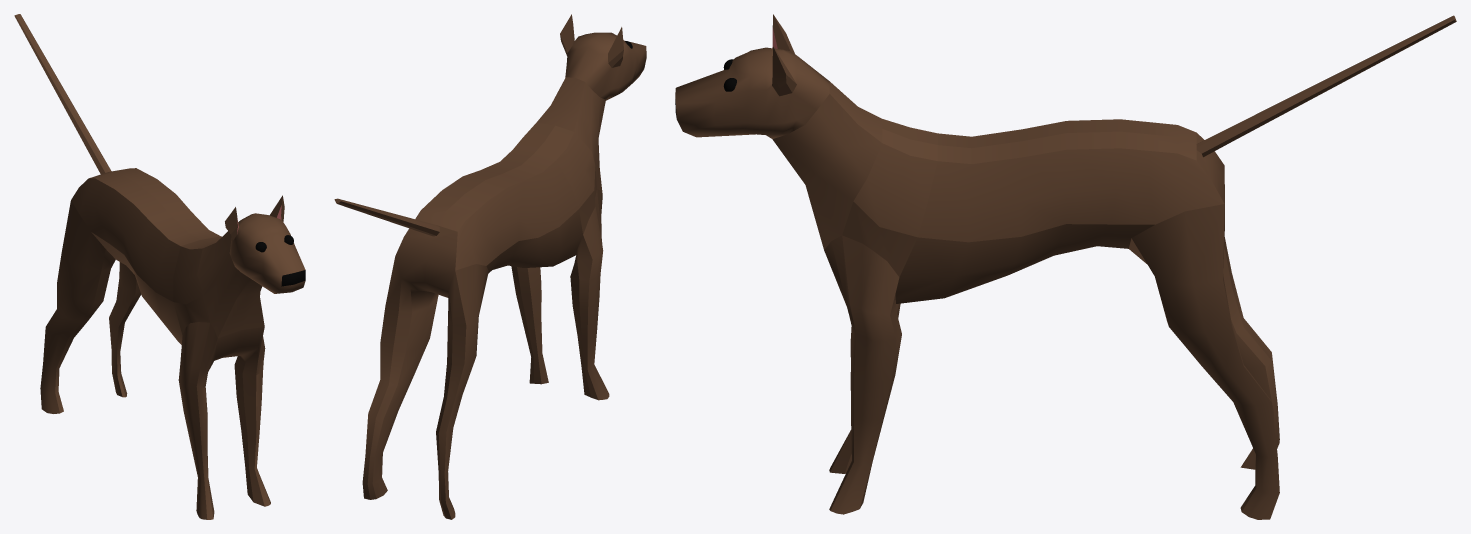
Rendered from Dog1ModelSmall.fbx.
3 renders of one model, left to right at view 1: azimuth 30°, elevation 25°; view 2: azimuth 150°, elevation 25°; view 3: azimuth 270°, elevation 25°, orthographic. The views are drawn at different scales.
Parts seen in each view (by area): view 1: pCube3; view 2: pCube3; view 3: pCube3.
Boxes of the visible parts, box(x1,y1,x2,y2) form: pCube3: box(14, 14, 305, 519); pCube3: box(334, 14, 646, 519); pCube3: box(675, 14, 1456, 519).
Bounding box in the file's own units: 0.1138 × 0.4484 × 0.6669.
